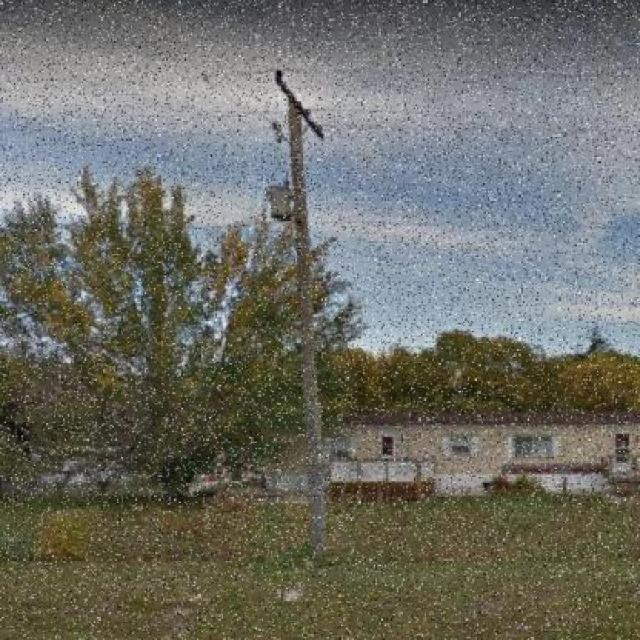pole: (204, 24, 385, 564)
